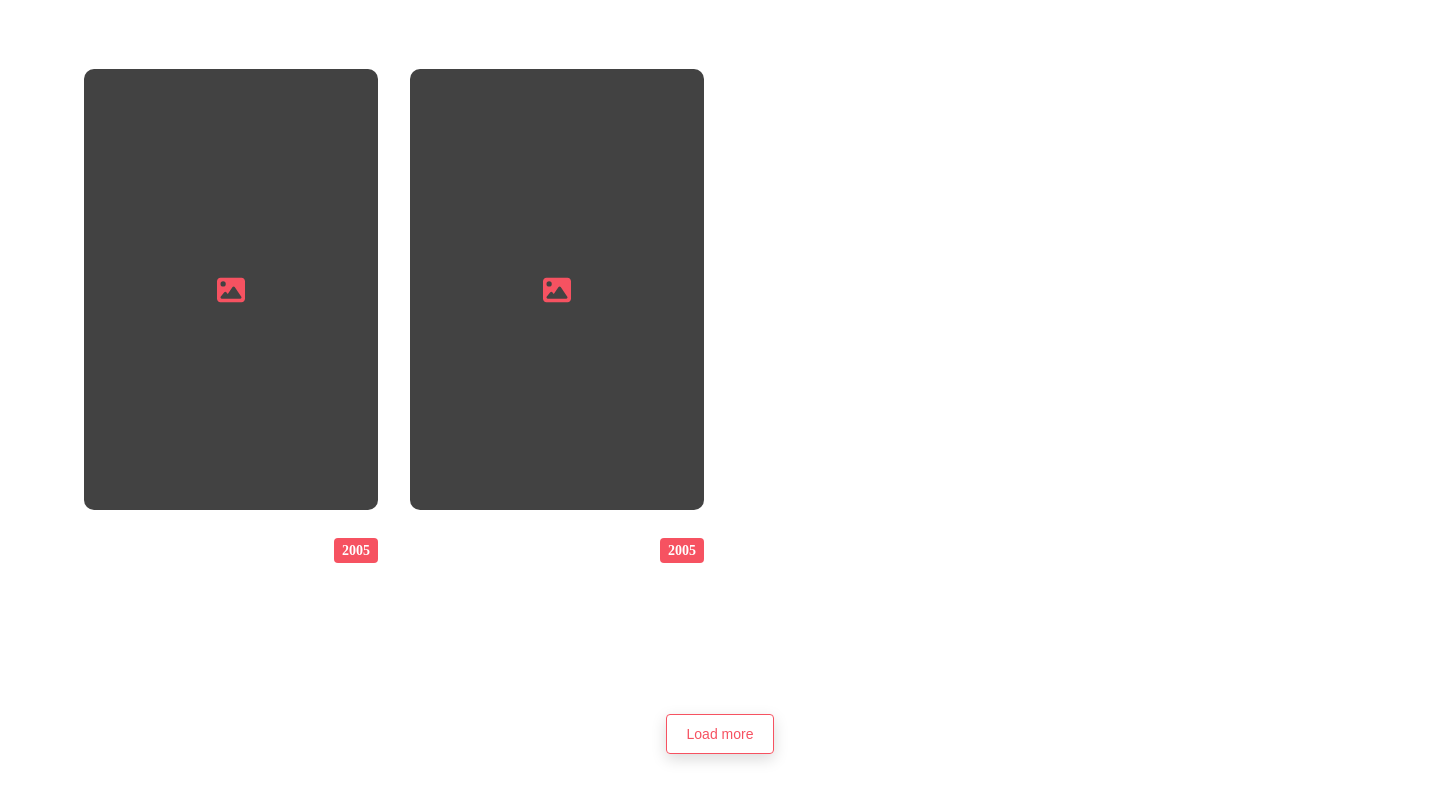
Test case: reveals ten at a time, retries the same next page, deduplicates composite IDs and stops at the last page
(page scrolled)
Click the button "Load more".
click(720, 734)  # box x1=666 y1=714 x2=774 y2=754
(page scrolled)
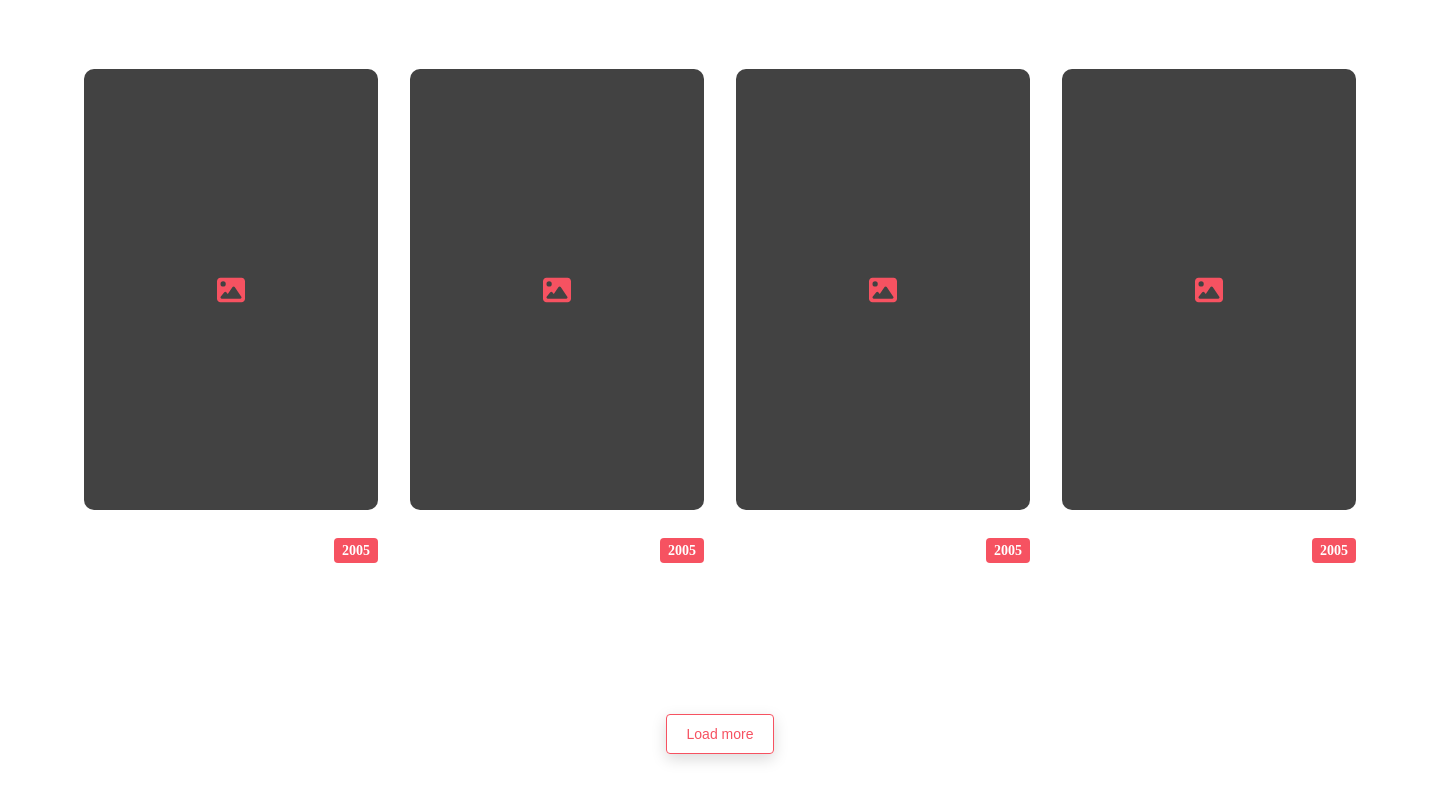
Click the button "Load more".
click(720, 734)  # box x1=666 y1=714 x2=774 y2=754
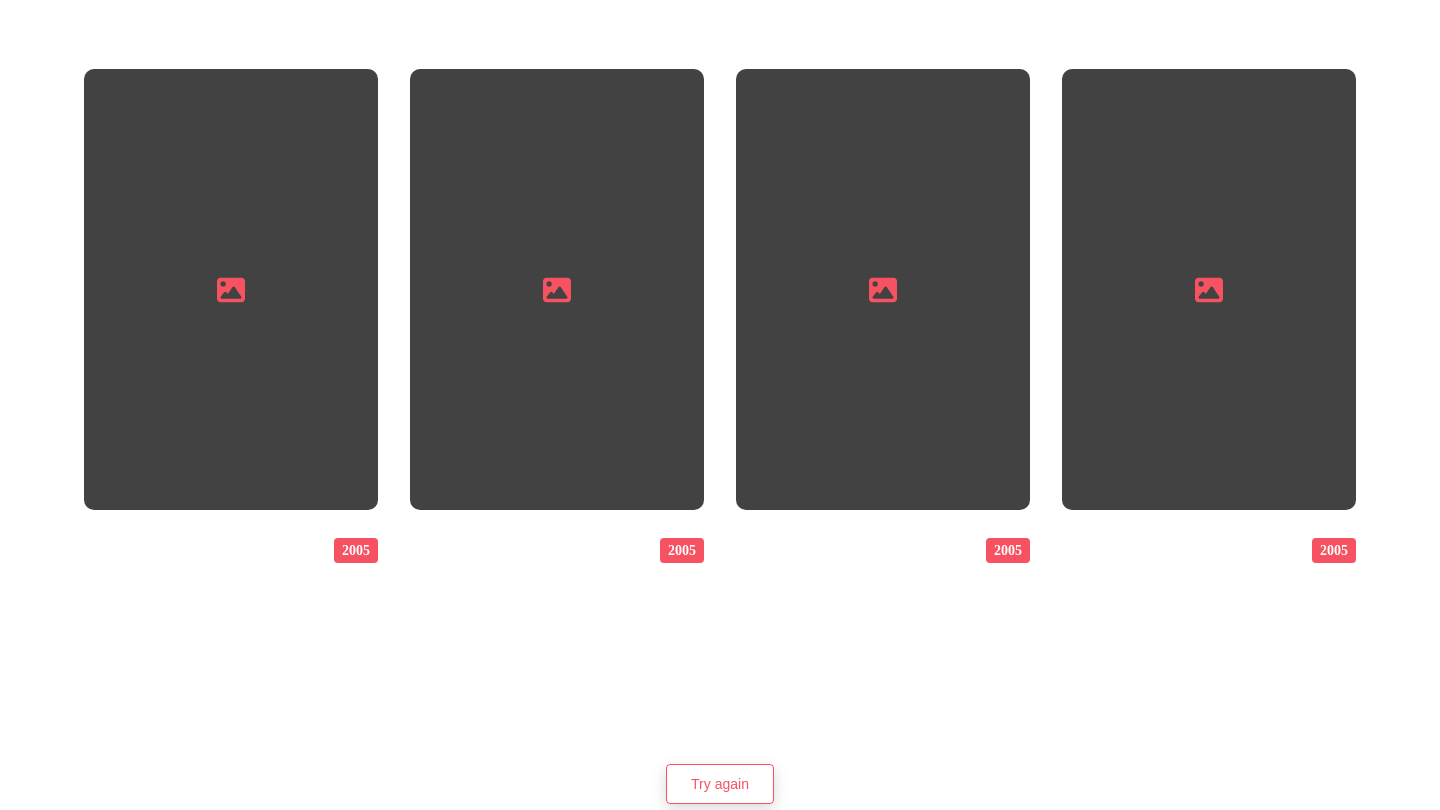
Click the button "Try again".
click(720, 784)  # box x1=666 y1=764 x2=774 y2=804
(page scrolled)
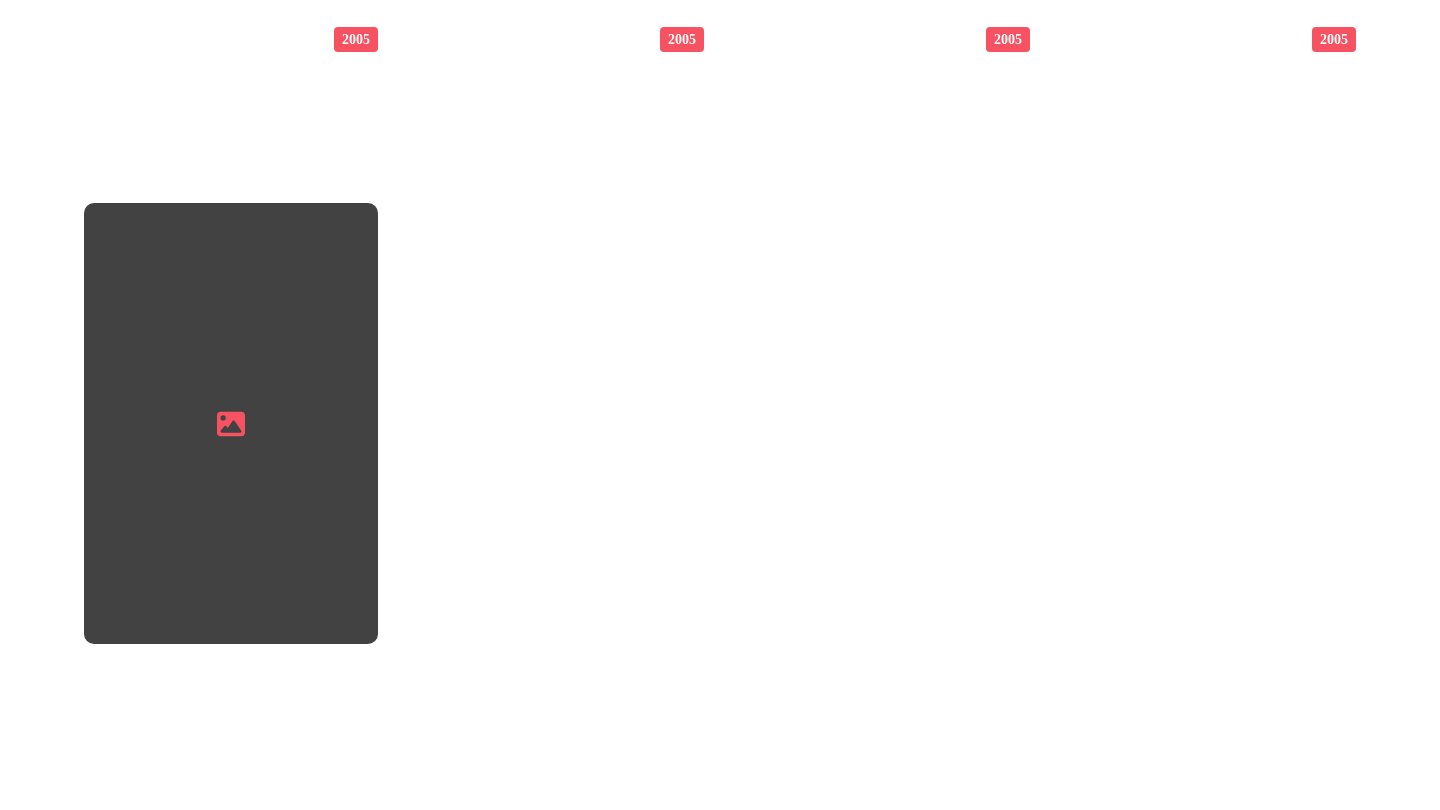
Expected: the button "Load more" is not shown
Expected: the link named "New series" is shown, x1=84 y1=203 x2=378 y2=754
